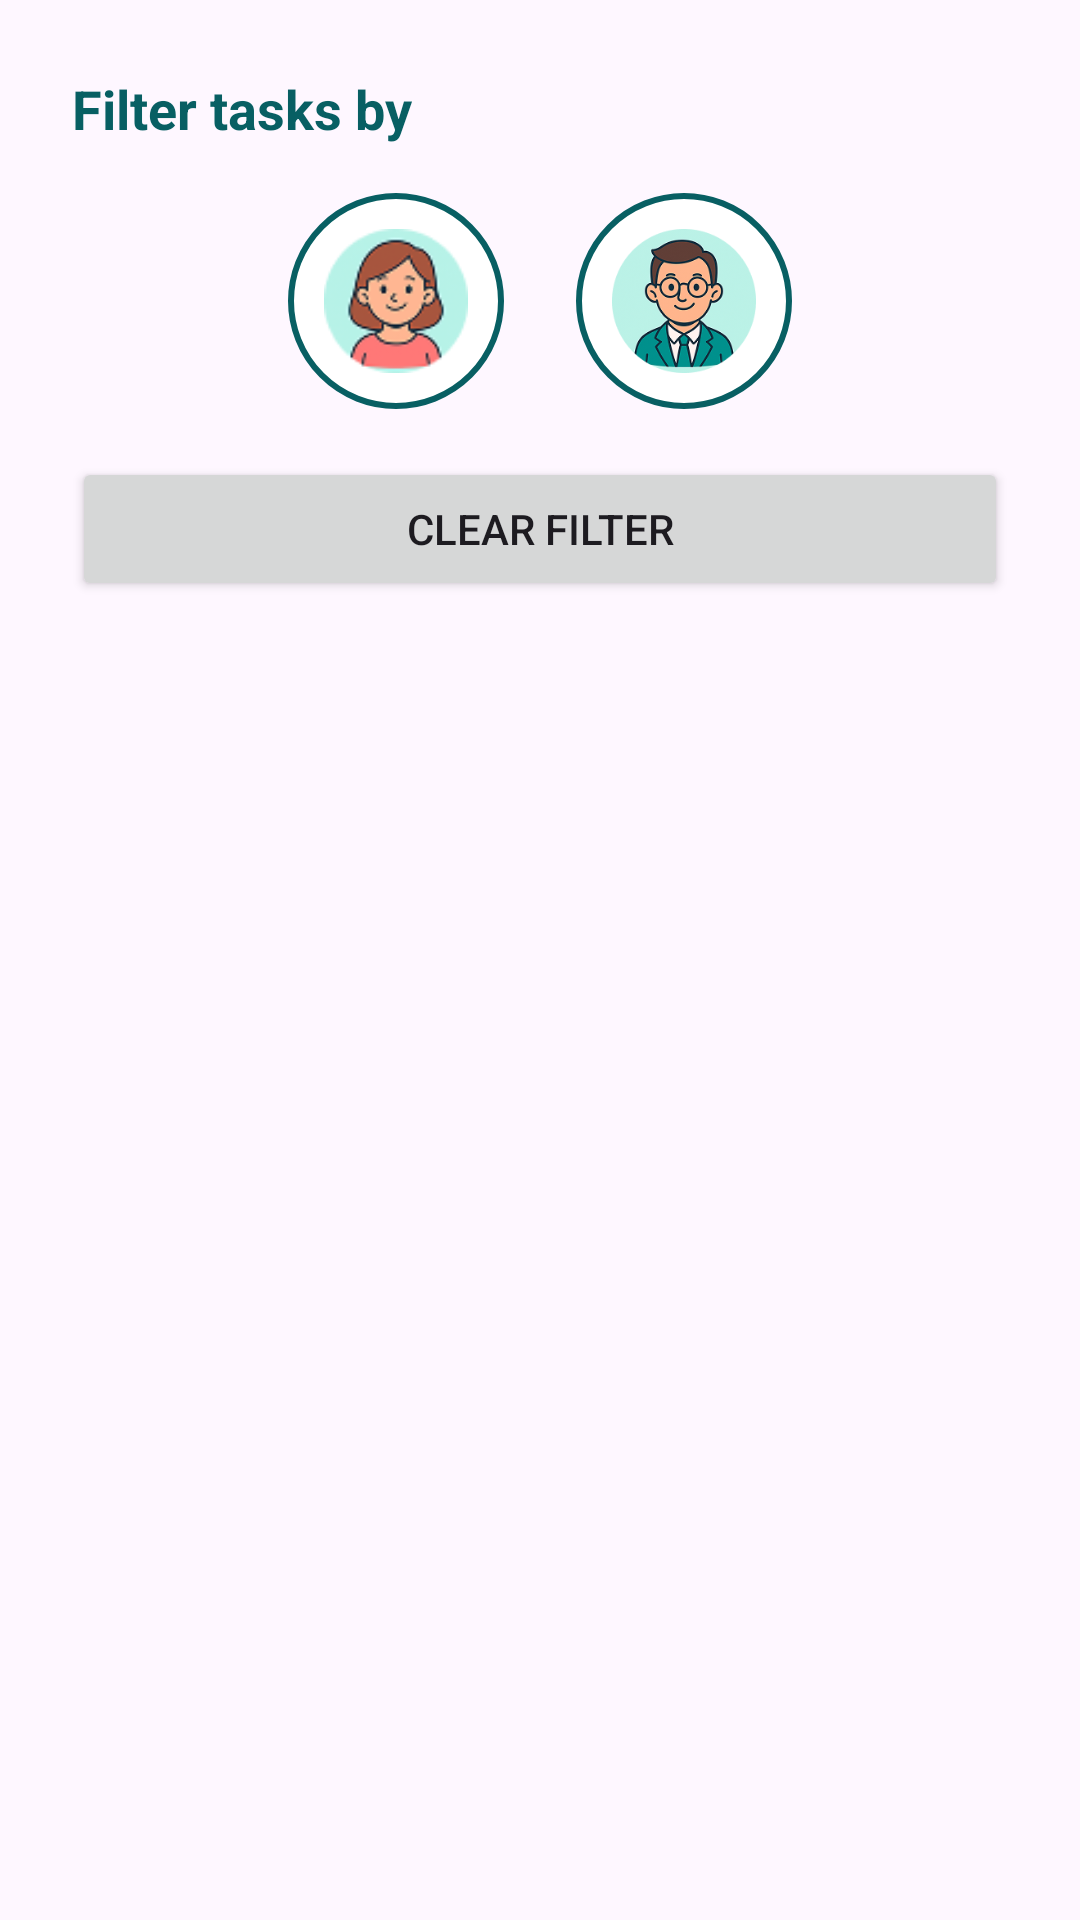

Icons on this 1080w x 1920h Android screen, each with the point to tap as (x=x, y=y):
Filter by Parent: (x=396, y=301)
Filter by Therapist: (x=684, y=301)
